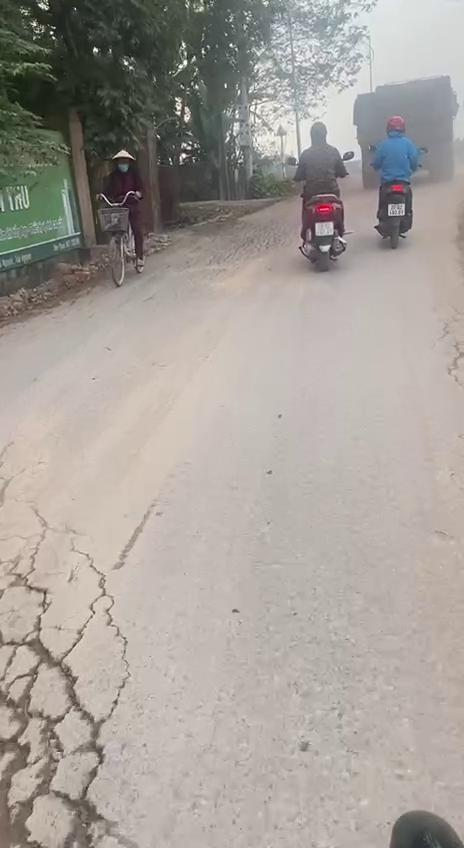pothole: (0, 582, 117, 848)
